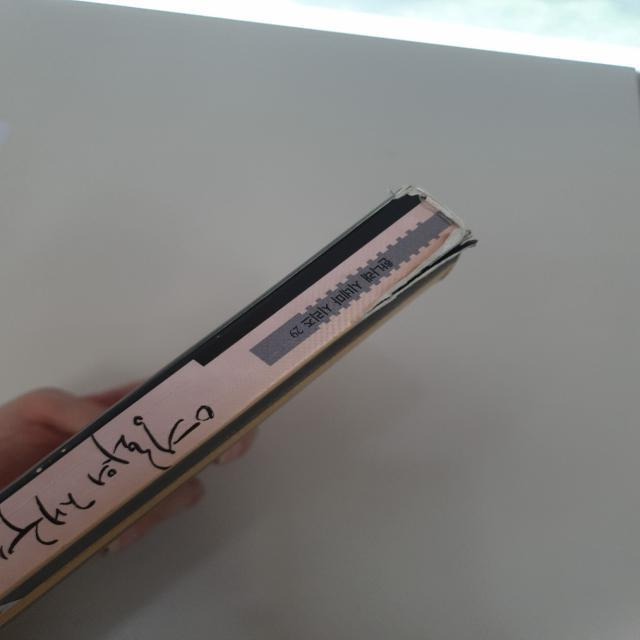Ripped: (354, 211, 480, 328), (381, 173, 443, 210)
